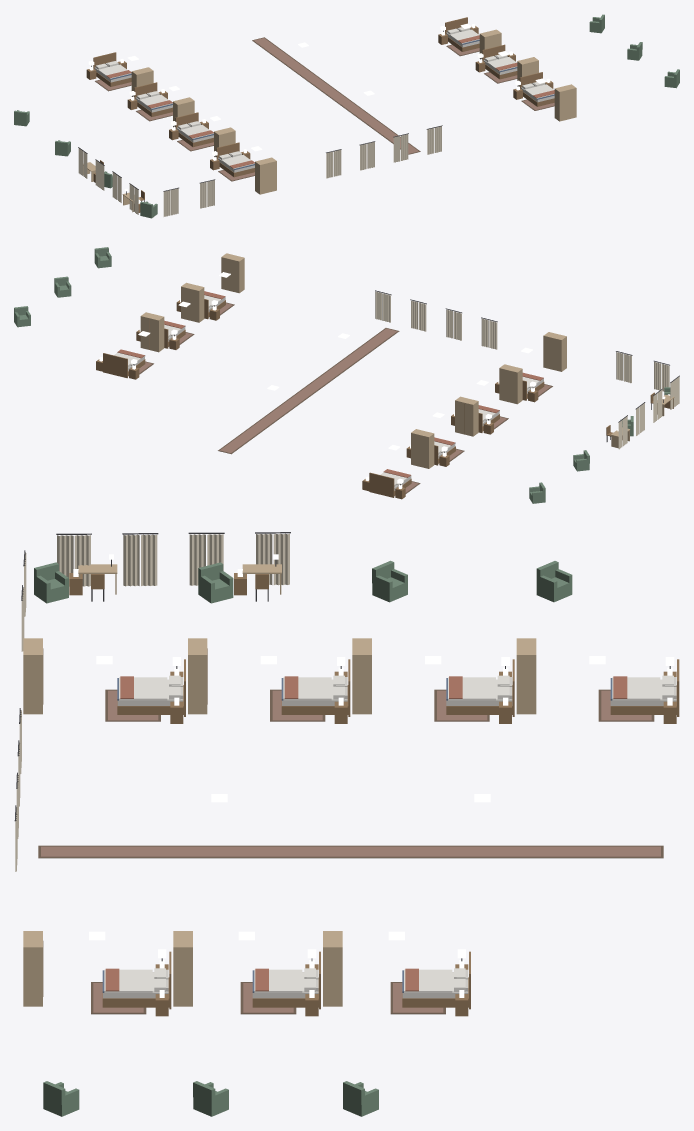
Rendered from fine-s1.glb.
The picture shows the model from 3 angles, top to bottom: view 1: azimuth 30°, elevation 25°; view 2: azimuth 150°, elevation 25°; view 3: azimuth 270°, elevation 25°; orthographic projection. The views are drawn at different scales.
Parts seen in each view (by area): view 1: soft-s1, dresser.002, dresser.006, bed-frame.005, bed-frame.004, bed-frame.006, bed-frame.003, bed-frame.001, bed-frame.002, bed-frame.000, dresser.000, dresser.003 (+3 smaller); view 2: soft-s1, dresser.006, dresser.005, dresser.003, dresser.004, dresser.000, dresser.001, dresser.002, bed-frame.003, bed-frame.000; view 3: soft-s1, dresser.003, dresser.006, dresser.002, dresser.004, dresser.005, dresser.000, dresser.001, lounge-chair.003, lounge-chair.005, bed-frame.002, bed-frame.003 (+10 smaller).
Part boxes in pixels (left/top/right/bottom): soft-s1: left=78, top=26, right=554, bottom=216; dresser.002: left=554, top=84, right=576, bottom=121; dresser.006: left=255, top=157, right=276, bottom=194; bed-frame.005: left=175, top=112, right=213, bottom=147; bed-frame.004: left=134, top=82, right=172, bottom=116; bed-frame.006: left=216, top=142, right=254, bottom=177; bed-frame.003: left=93, top=52, right=131, bottom=86; bed-frame.001: left=482, top=44, right=517, bottom=79; bed-frame.002: left=519, top=72, right=554, bottom=106; bed-frame.000: left=445, top=17, right=479, bottom=51; dresser.000: left=479, top=29, right=501, bottom=58; dresser.003: left=131, top=67, right=153, bottom=96; soft-s1: left=114, top=290, right=679, bottom=493; dresser.006: left=543, top=332, right=566, bottom=371; dresser.005: left=499, top=364, right=522, bottom=404; dresser.003: left=411, top=429, right=434, bottom=468; dresser.004: left=455, top=396, right=478, bottom=436; dresser.000: left=140, top=312, right=164, bottom=352; dresser.001: left=181, top=282, right=204, bottom=322; dresser.002: left=221, top=253, right=244, bottom=293; bed-frame.003: left=369, top=472, right=411, bottom=497; bed-frame.000: left=103, top=353, right=145, bottom=378; soft-s1: left=14, top=532, right=675, bottom=1014; dresser.003: left=516, top=638, right=536, bottom=714; dresser.006: left=23, top=638, right=43, bottom=714; dresser.002: left=23, top=931, right=43, bottom=1006; dresser.004: left=352, top=638, right=371, bottom=714; dresser.005: left=188, top=638, right=207, bottom=714; dresser.000: left=323, top=931, right=342, bottom=1006; dresser.001: left=173, top=931, right=192, bottom=1006; lounge-chair.003: left=536, top=561, right=572, bottom=602; lounge-chair.005: left=198, top=562, right=233, bottom=603; bed-frame.002: left=102, top=951, right=171, bottom=1009; bed-frame.003: left=610, top=659, right=679, bottom=716.
Bounding box in the file's own units: 38.53 × 2 × 20.36.
